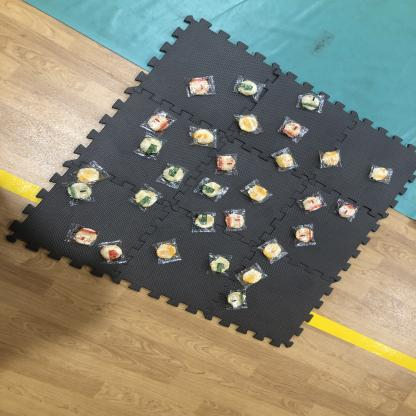green_setoshio: (127, 185, 165, 210), (186, 208, 219, 235), (62, 182, 96, 206), (194, 178, 227, 202), (295, 91, 329, 114), (235, 77, 266, 102), (157, 163, 188, 187), (137, 136, 165, 160), (206, 253, 234, 276), (223, 288, 250, 310)
red_setoshio: (67, 222, 101, 248), (140, 110, 176, 134), (329, 196, 361, 221), (184, 74, 217, 98), (98, 240, 129, 264), (214, 151, 243, 175), (278, 118, 308, 141), (292, 222, 318, 248), (297, 192, 327, 214), (224, 210, 248, 233)
yellow_setoshio: (68, 160, 111, 184), (240, 179, 274, 205), (236, 263, 268, 289), (232, 110, 263, 136), (186, 126, 219, 150), (269, 146, 299, 172), (258, 237, 287, 263), (152, 239, 181, 264), (317, 148, 343, 170), (368, 165, 393, 185)
